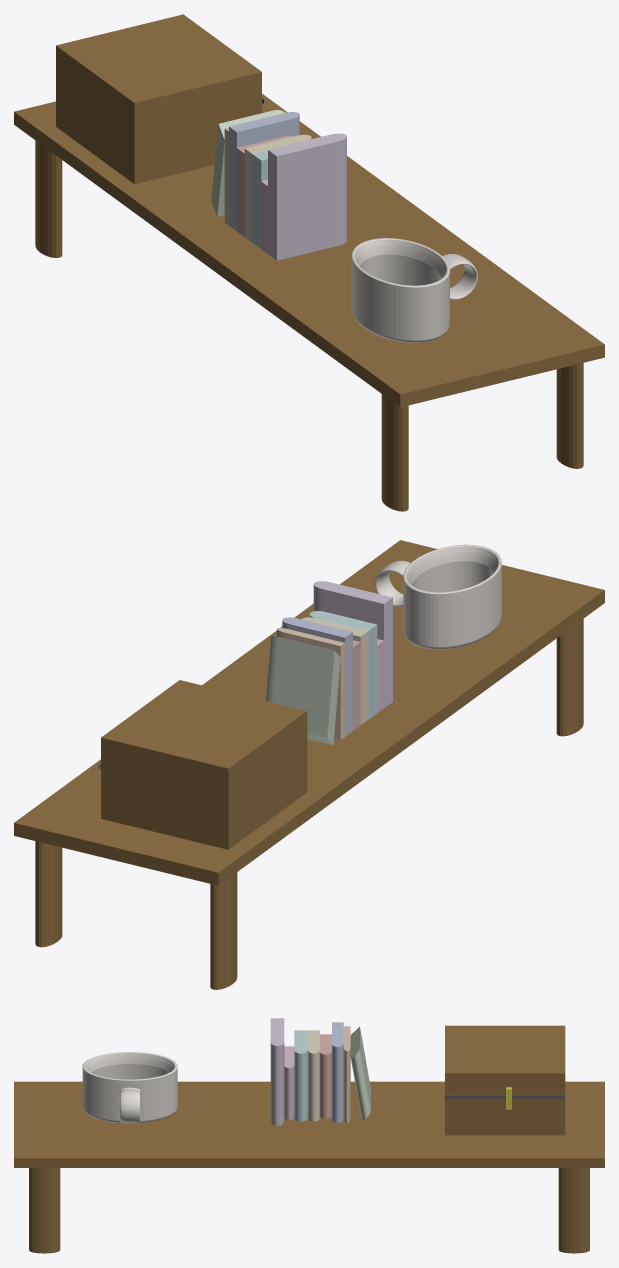
The model's file is table2.glb.
3 views of the same model, one above another, from view 1: azimuth 30°, elevation 25°; view 2: azimuth 150°, elevation 25°; view 3: azimuth 270°, elevation 25° (orthographic). The views are drawn at different scales.
Visible parts, largest first — view 1: Mesh_Mesh_head_geo.001_lambert2SG.001; view 2: Mesh_Mesh_head_geo.001_lambert2SG.001; view 3: Mesh_Mesh_head_geo.001_lambert2SG.001.
Boxes of the visible parts, box(x1,y1,x2,y2) form: Mesh_Mesh_head_geo.001_lambert2SG.001: box(14, 14, 604, 511); Mesh_Mesh_head_geo.001_lambert2SG.001: box(14, 540, 604, 989); Mesh_Mesh_head_geo.001_lambert2SG.001: box(14, 1018, 604, 1253).
Size of the model in its own units: 0.0184 by 0.02 by 0.0603.
